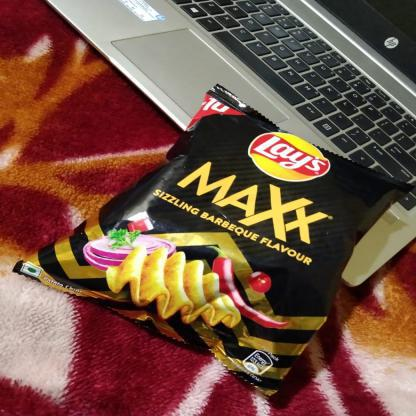maxx_sizzling_barbeque: (10, 102, 413, 376)
